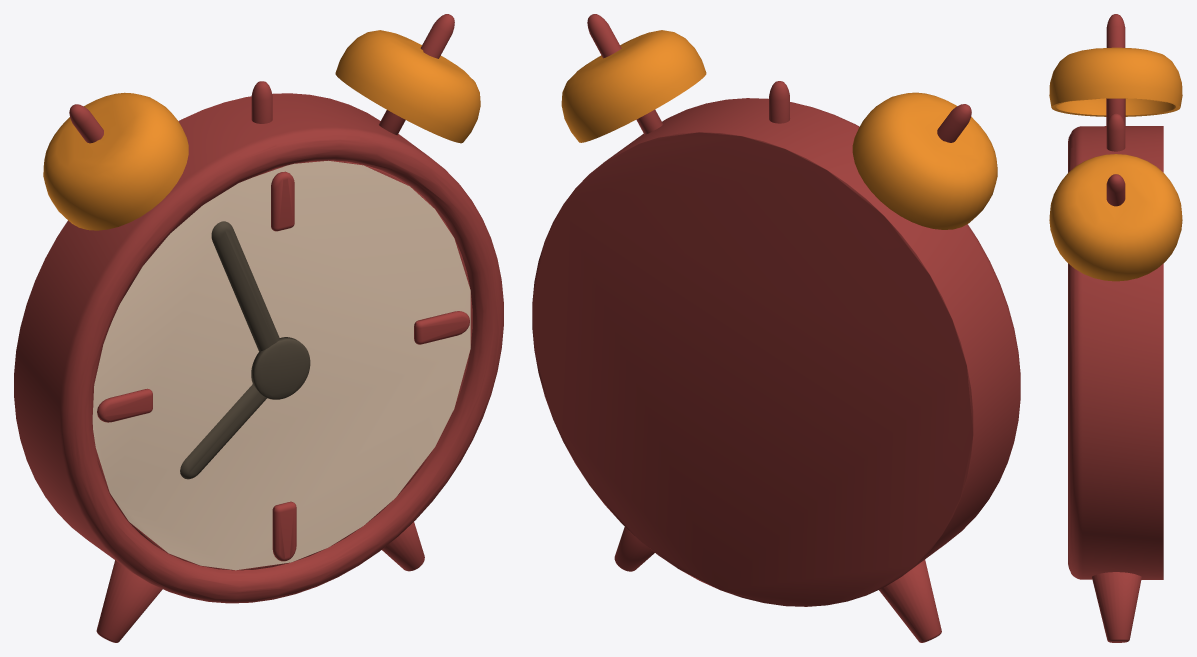
File: clock.glb
3 renders of one model, left to right at view 1: azimuth 30°, elevation 25°; view 2: azimuth 150°, elevation 25°; view 3: azimuth 270°, elevation 25°, orthographic. The views are drawn at different scales.
Parts seen in each view (by area): view 1: horloge, cloche, marque, Circle, aiguille.001, centre, aiguille, baguette, barre_centrale; view 2: horloge, cloche, Circle, baguette, barre_centrale; view 3: horloge, cloche, Circle, baguette, barre_centrale.
Part boxes in pixels (x1,y1,x2,y2): horloge: (14, 93, 503, 603); cloche: (43, 30, 480, 230); marque: (97, 171, 469, 561); Circle: (96, 522, 424, 642); aiguille.001: (211, 221, 279, 351); centre: (251, 337, 310, 399); aiguille: (180, 384, 266, 479); baguette: (69, 14, 454, 143); barre_centrale: (251, 81, 272, 123); horloge: (532, 98, 1020, 606); cloche: (561, 30, 997, 229); Circle: (614, 526, 941, 642); baguette: (587, 14, 971, 142); barre_centrale: (769, 81, 789, 123); horloge: (1068, 126, 1163, 579); cloche: (1049, 47, 1182, 281); Circle: (1092, 572, 1141, 642); baguette: (1106, 14, 1125, 206); barre_centrale: (1106, 113, 1125, 151).
Size of the model in its own units: 1.98 by 2.34 by 0.5821.
